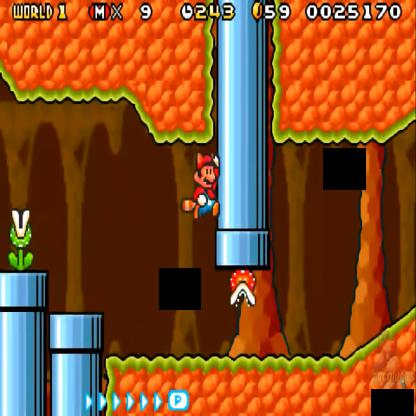Mario: (180, 150, 224, 228)
planta carnivora: (4, 204, 35, 274), (226, 266, 258, 316)
